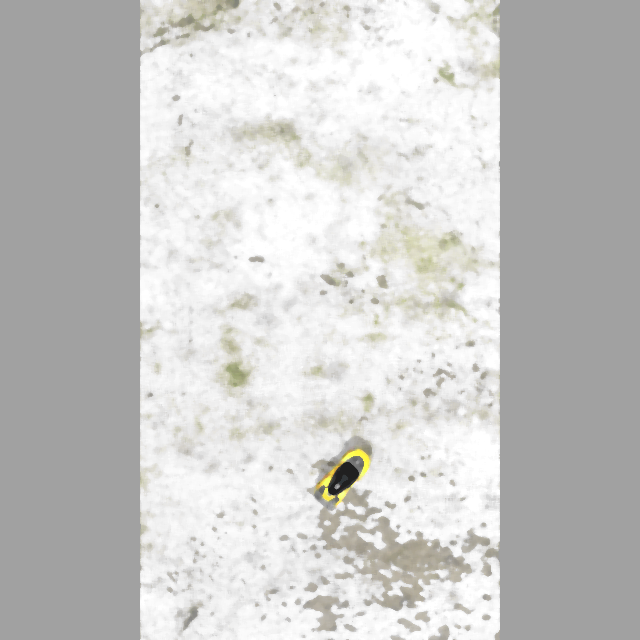car: (309, 441, 377, 515)
